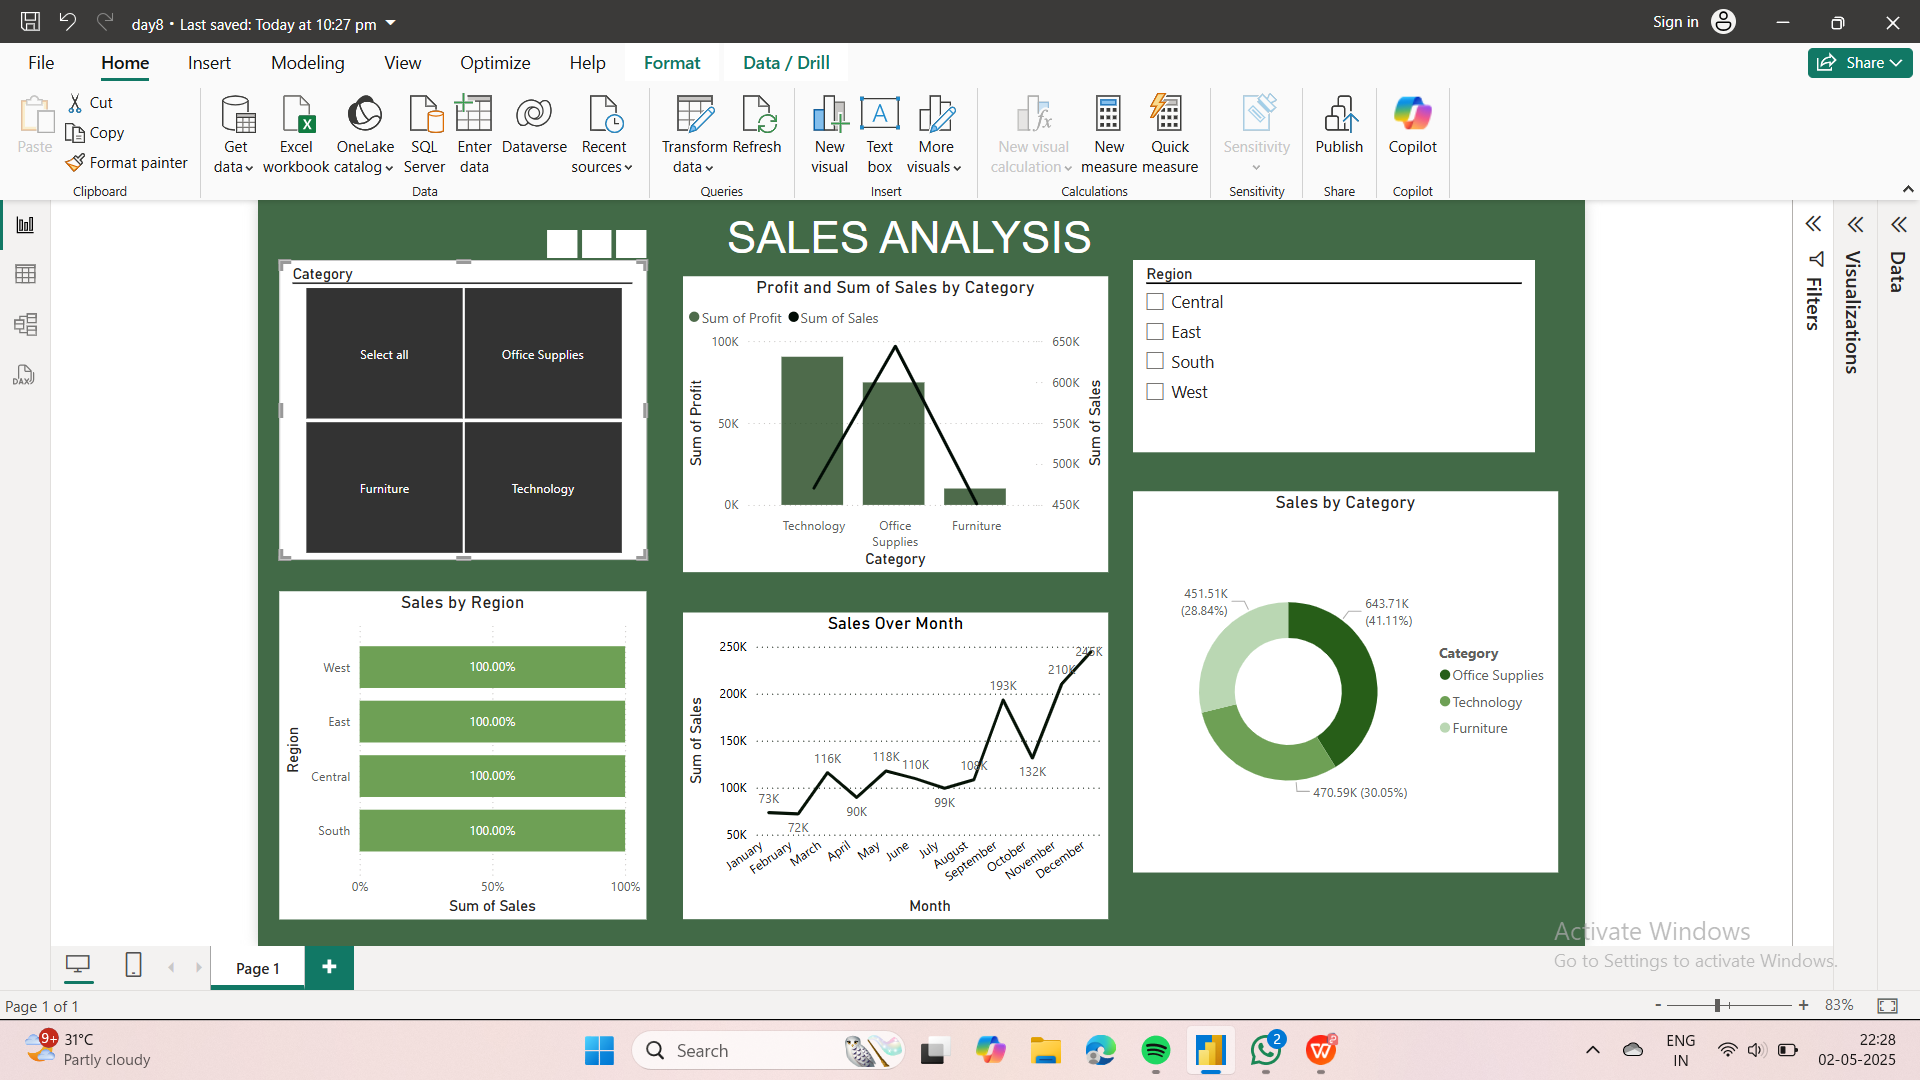

Layout of this report page (visuals, bound fields, positions):
{"tool":"powerbi","page":{"name":"Page 1","canvas":[1280,720],"ordinal":0},"visuals":[{"type":"lineChart","title":"Sales Over Month","fields":{"Y":["Sum(Sheet1.Sales)"],"Category":["Sheet1.Month-Year.Variation.Date Hierarchy.Month"]},"box":[410.3,397.9,410.3,296.4],"z":0},{"type":"slicer","fields":{"Values":["Sheet1.Category"]},"box":[20.6,57.6,354,289.5],"z":1000},{"type":"hundredPercentStackedBarChart","title":" Sales by Region","fields":{"Category":["Sheet1.Region"],"Y":["Sum(Sheet1.Sales)"]},"box":[20.6,377.4,354,317],"z":2000},{"type":"slicer","fields":{"Values":["Sheet1.Region"]},"box":[843.9,57.6,388.3,185.2],"z":3000},{"type":"donutChart","title":"Sales by Category","fields":{"Y":["Sum(Sheet1.Sales)"],"Category":["Sheet1.Category"]},"box":[843.9,281.3,410.3,367.8],"z":3001},{"type":"lineStackedColumnComboChart","title":"Profit and Sum of Sales by Category","fields":{"Category":["Sheet1.Category"],"Y":["Sum(Sheet1.Profit)"],"Y2":["Sum(Sheet1.Sales)"]},"box":[410.3,74.1,410.3,285.4],"z":3002},{"type":"textbox","box":[447.3,6.9,384.2,67.2],"z":3003}]}

Visuals, with their boxes on the page's 1280x720 design canvas (x1, y1, x2, y2). These are canvas units, not pixel positions in the 1920x1080 screenshot, which may show the page scaled, cropped or inside an application window:
"Sales Over Month" lineChart: x1=410 y1=398 x2=821 y2=694
slicer - Sheet1.Category: x1=21 y1=58 x2=375 y2=347
" Sales by Region" hundredPercentStackedBarChart: x1=21 y1=377 x2=375 y2=694
slicer - Sheet1.Region: x1=844 y1=58 x2=1232 y2=243
"Sales by Category" donutChart: x1=844 y1=281 x2=1254 y2=649
"Profit and Sum of Sales by Category" lineStackedColumnComboChart: x1=410 y1=74 x2=821 y2=360
textbox: x1=447 y1=7 x2=832 y2=74
